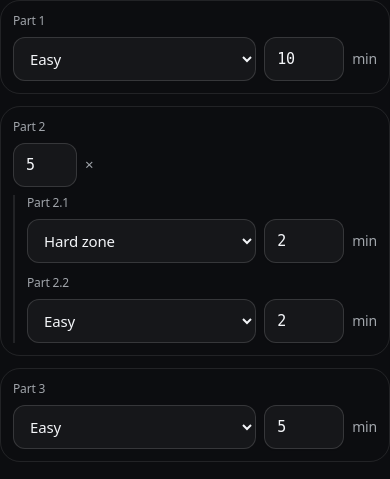
Test: BlocksEditor › takes digits only
Replace the text in the field named "Minutes" below "Part 1" with "1a2,5" at (304,59), box x1=264 y1=37 x2=344 y2=81
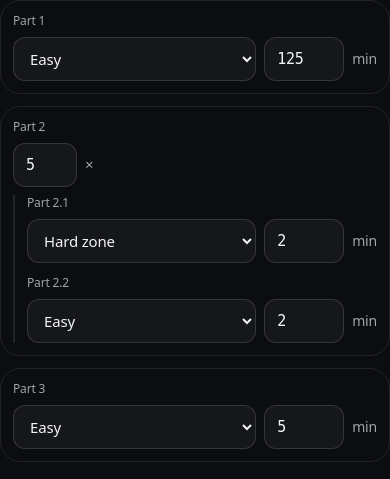
Expected: the field named "Minutes" below "Part 1" holds "125", x1=264 y1=37 x2=344 y2=81
